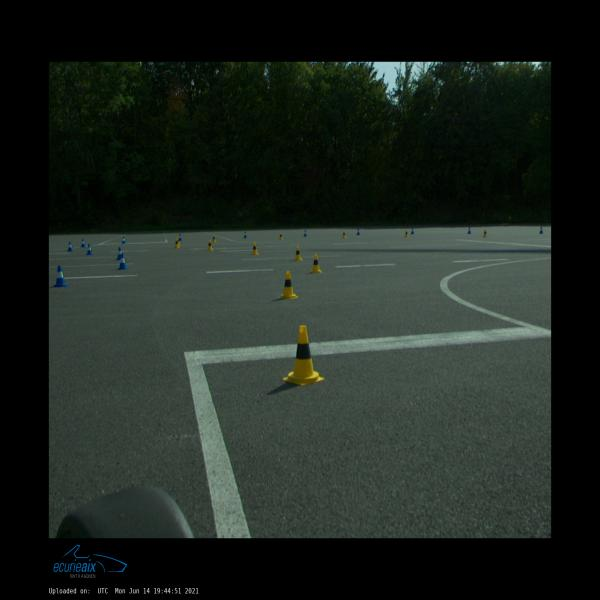blue_cone: (53, 266, 68, 287), (118, 253, 128, 270), (116, 247, 122, 260), (86, 244, 93, 254), (68, 242, 74, 252), (539, 226, 543, 234), (122, 236, 126, 244), (81, 239, 85, 247), (467, 227, 471, 234), (244, 231, 248, 238), (178, 234, 182, 241), (410, 228, 414, 234), (357, 228, 360, 234), (304, 230, 306, 236)
yellow_cone: (283, 326, 324, 385), (280, 271, 298, 299), (310, 254, 322, 273), (293, 246, 303, 261), (251, 242, 259, 255), (207, 240, 213, 251), (174, 238, 180, 247), (175, 236, 180, 246), (483, 229, 487, 237), (279, 232, 283, 240), (212, 234, 216, 242), (404, 230, 408, 237), (342, 231, 346, 238)
